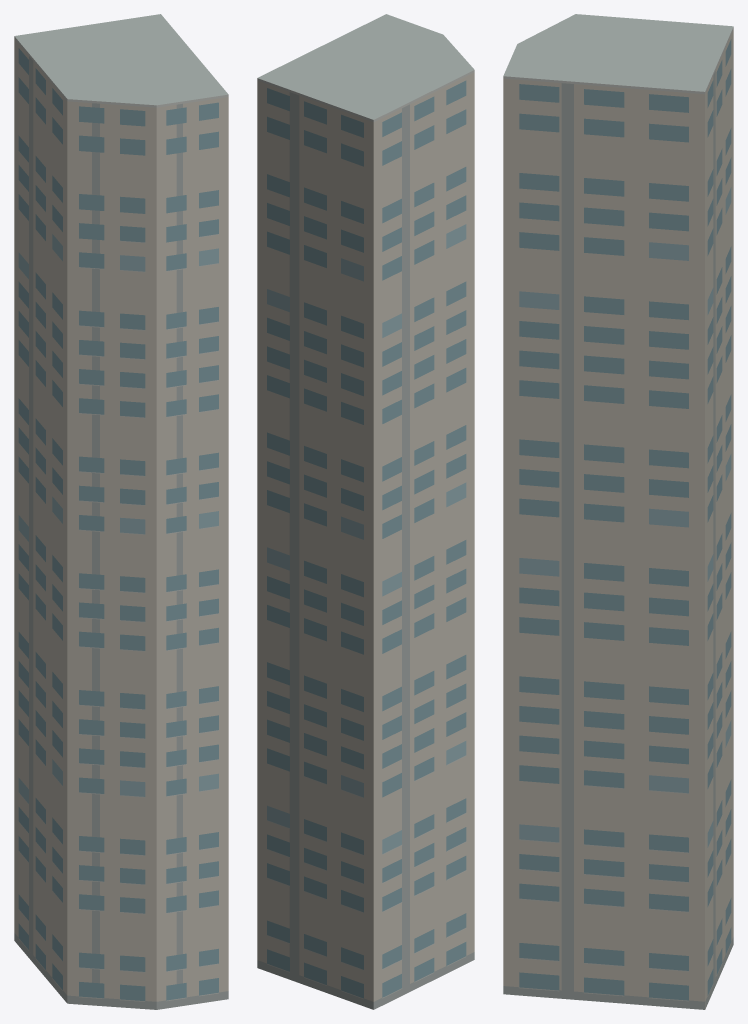
File: residential-91520af8-9a87-4981-a68b-e0bc2cf1f5e7.glb
3 views of the same model, side by side, from view 1: azimuth 30°, elevation 25°; view 2: azimuth 150°, elevation 25°; view 3: azimuth 270°, elevation 25° (orthographic). The views are drawn at different scales.
Visible parts, largest first — view 1: residential-91520af8-9a87-4981-a68b-e0bc2cf1f5e7.tmp; view 2: residential-91520af8-9a87-4981-a68b-e0bc2cf1f5e7.tmp; view 3: residential-91520af8-9a87-4981-a68b-e0bc2cf1f5e7.tmp.
Boxes of the visible parts, x1=… form: residential-91520af8-9a87-4981-a68b-e0bc2cf1f5e7.tmp: x1=14, y1=14, x2=228, y2=1009; residential-91520af8-9a87-4981-a68b-e0bc2cf1f5e7.tmp: x1=257, y1=14, x2=474, y2=1009; residential-91520af8-9a87-4981-a68b-e0bc2cf1f5e7.tmp: x1=503, y1=14, x2=733, y2=1009.
Size of the model in its own units: 17.22 by 94.55 by 21.53.
